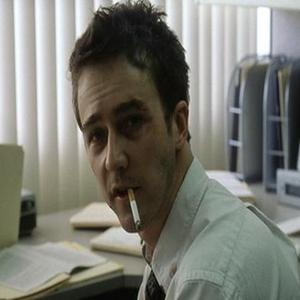cigarette: (126, 188, 144, 232)
